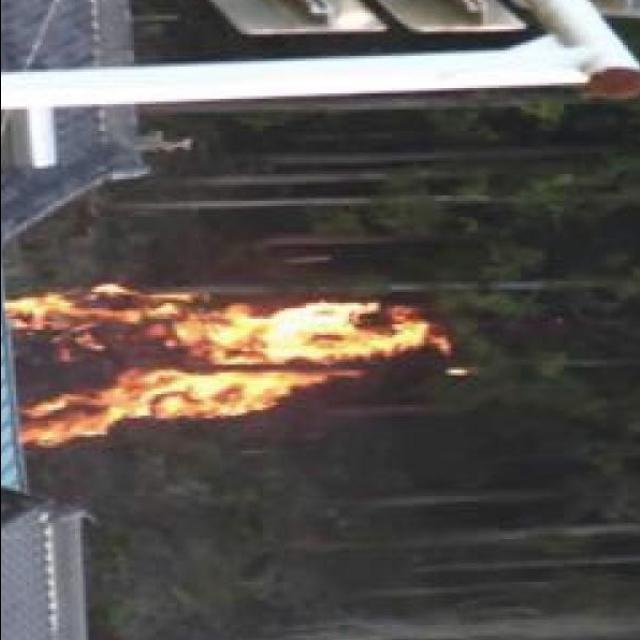Fire: (1, 283, 433, 442)
